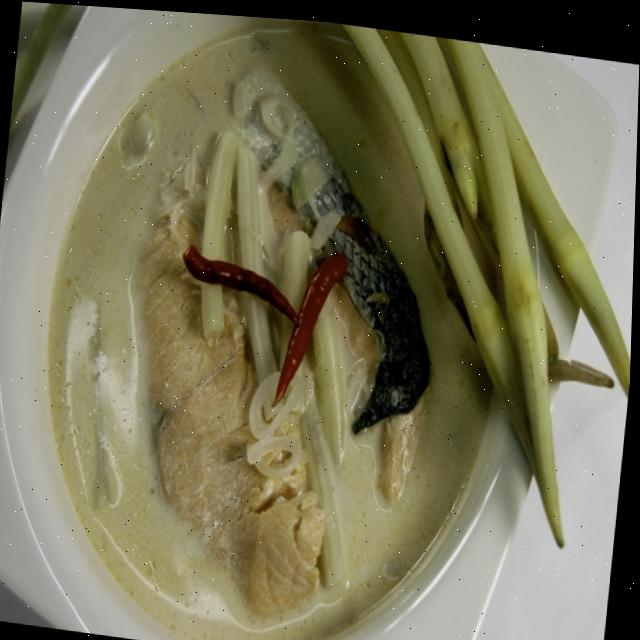汤锅炖物: (0, 3, 599, 640)
